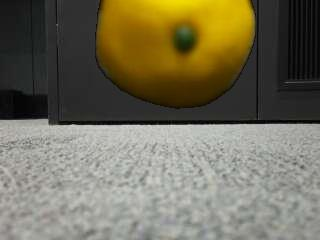lemon: (97, 0, 254, 108)
